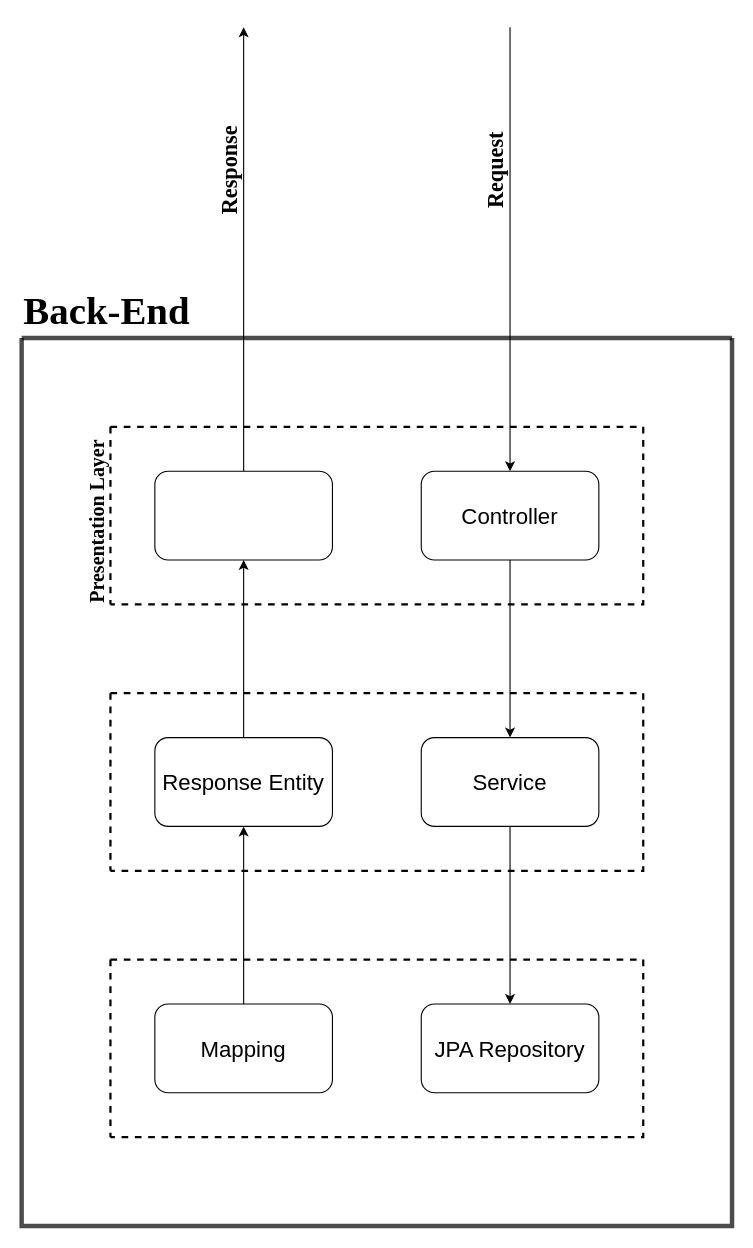
This 753x1248 diagram has some shape labels left out. The box of each missing label's shape, as (x1, y1, x2, y2) in pixels:
API Response: (154, 470, 332, 560)
Bussiness Logic Layer: (109, 692, 644, 871)
Data Access Layer: (109, 958, 644, 1138)
